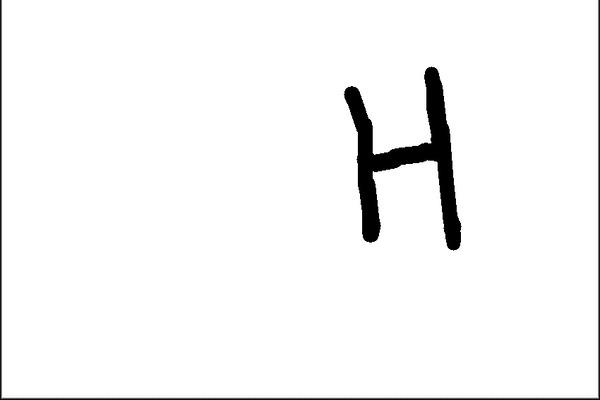H: (341, 61, 468, 254)
